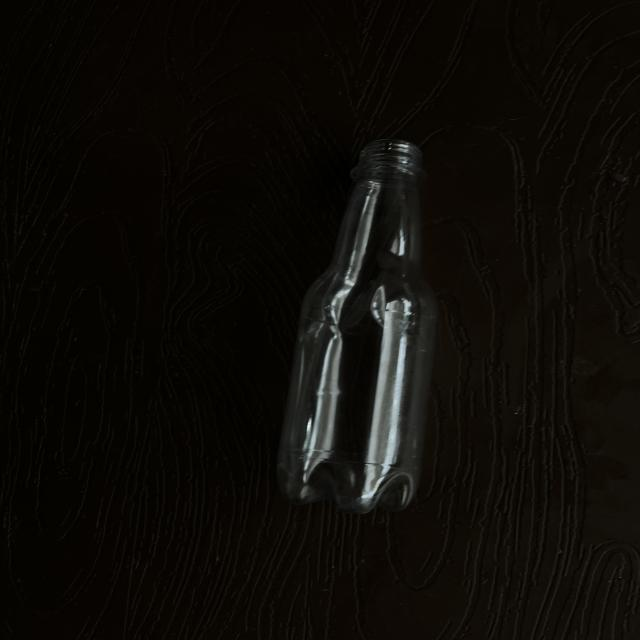PET_ClearBottle: (267, 136, 447, 509)
